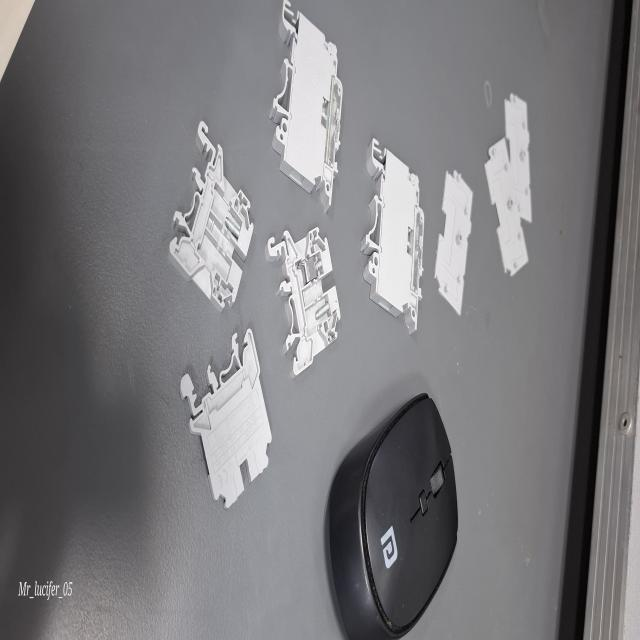Inverted: (175, 326, 275, 518)
Reject: (166, 94, 262, 314), (261, 224, 348, 376)
